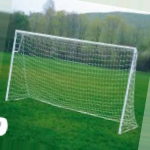goals: (3, 27, 144, 139)
